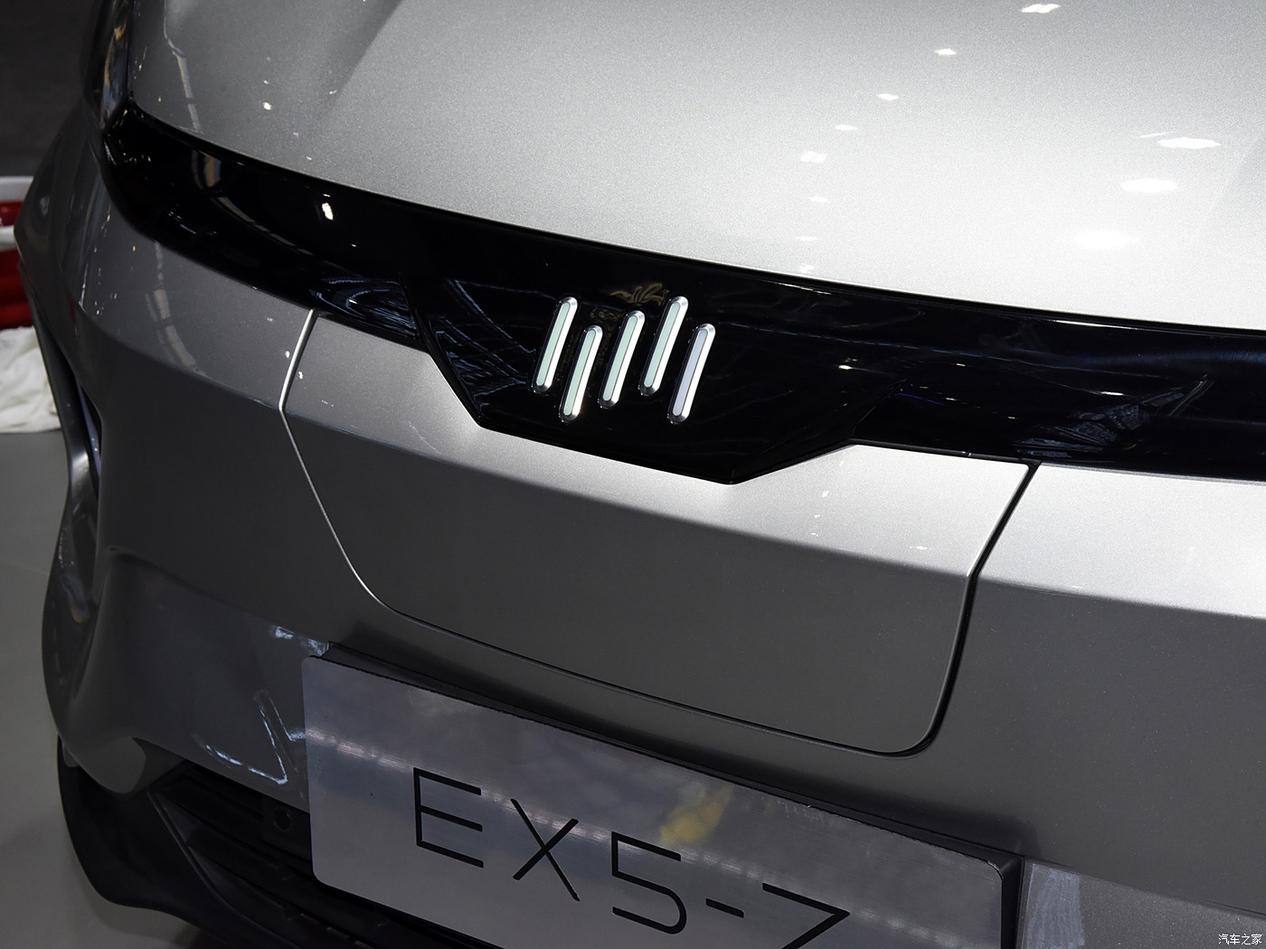WELTMEISTER: (534, 296, 714, 420)
